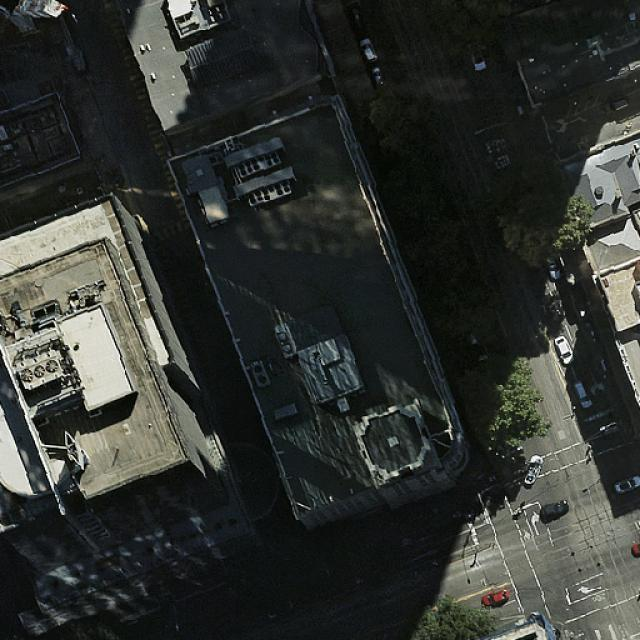Bike-Symbols: (592, 592, 610, 605), (519, 528, 534, 542)
